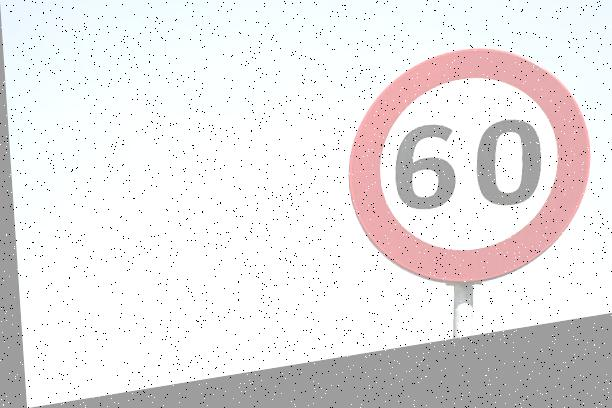Speed Limit -60-: (334, 46, 597, 316)
